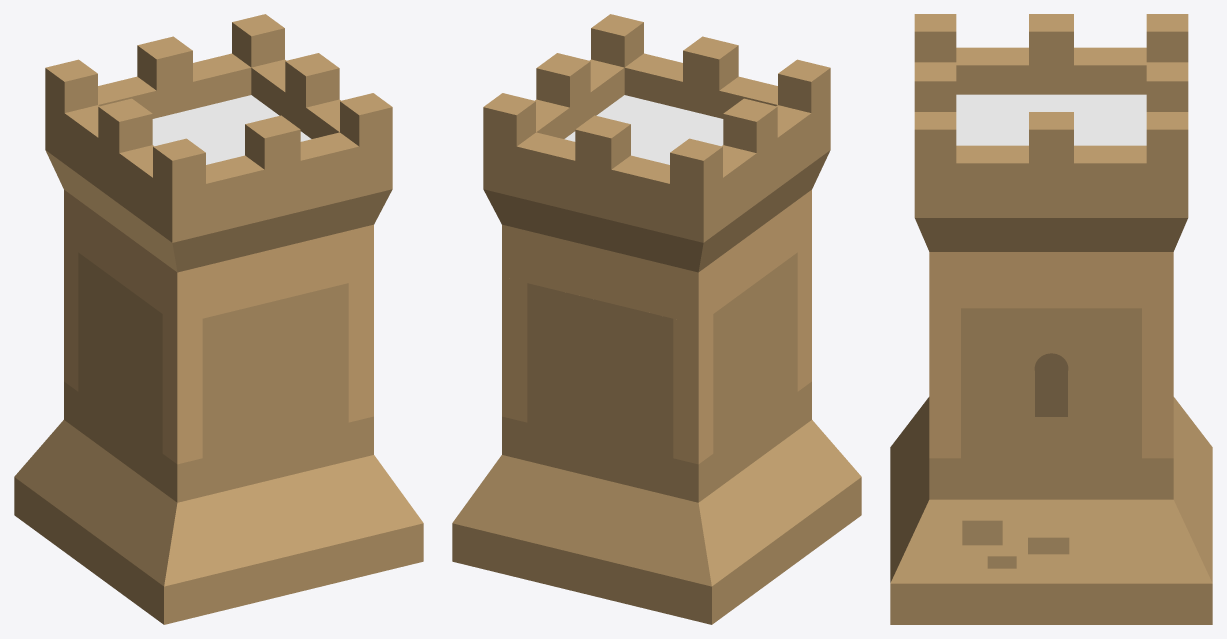
File: SlowingTower.dae
3 renders of one model, left to right at view 1: azimuth 30°, elevation 25°; view 2: azimuth 150°, elevation 25°; view 3: azimuth 270°, elevation 25°, orthographic. The views are drawn at different scales.
Visible parts, largest first — view 1: Group88 (×3), Group18, Group80 (×4); view 2: Group88 (×3), Group18, Group80 (×4); view 3: Group88 (×3), Group18 (×3), Group80 (×4).
Boxes of the visible parts, box(x1,y1,x2,y2) form: Group88 (×3): box(45, 14, 392, 324); Group18: box(14, 381, 423, 624); Group80 (×4): box(64, 242, 373, 464); Group88 (×3): box(483, 14, 830, 324); Group18: box(452, 381, 861, 624); Group80 (×4): box(502, 242, 811, 464); Group88 (×3): box(914, 14, 1188, 308); Group18 (×3): box(890, 397, 1212, 624); Group80 (×4): box(929, 308, 1173, 458).
Size of the model in its own units: 30.66 by 30.66 by 50.89.
